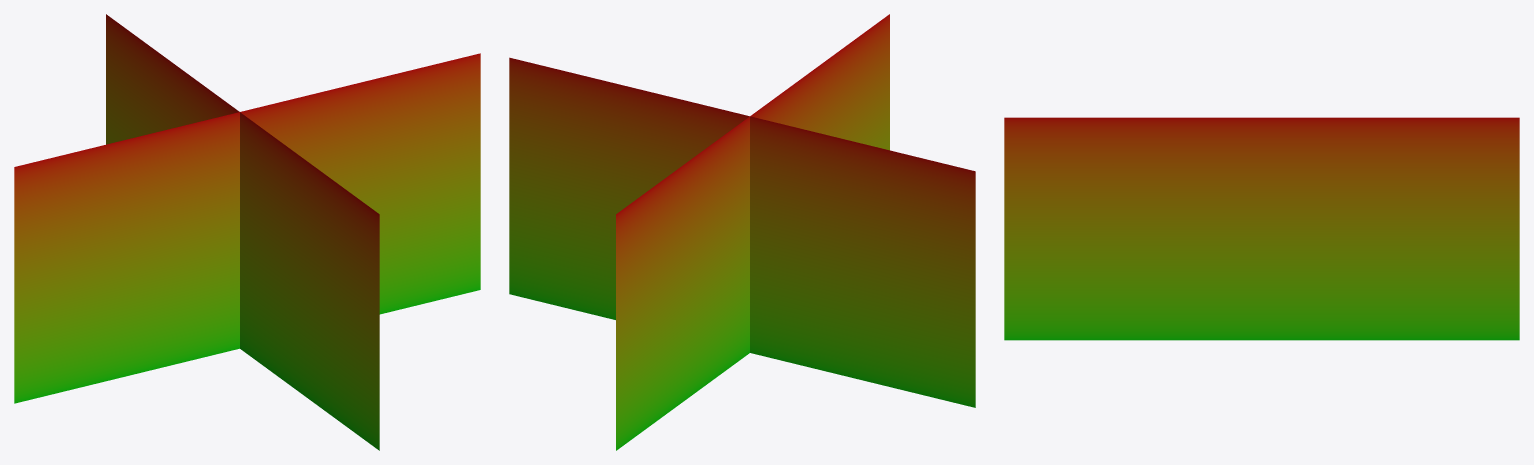
The model's file is Common Fern_LOD4_Var1_rhDso.fbx.
3 views of the same model, side by side, from view 1: azimuth 30°, elevation 25°; view 2: azimuth 150°, elevation 25°; view 3: azimuth 270°, elevation 25° (orthographic). The views are drawn at different scales.
Visible parts, largest first — view 1: _ddc0_Var1_LOD4; view 2: _ddc0_Var1_LOD4; view 3: _ddc0_Var1_LOD4.
Part boxes in pixels (box(x1,y1,x2,y2)): _ddc0_Var1_LOD4: box(14, 14, 480, 450); _ddc0_Var1_LOD4: box(509, 14, 975, 450); _ddc0_Var1_LOD4: box(1004, 117, 1519, 340).
Size of the model in its own units: 44.31 by 21.49 by 45.06.
